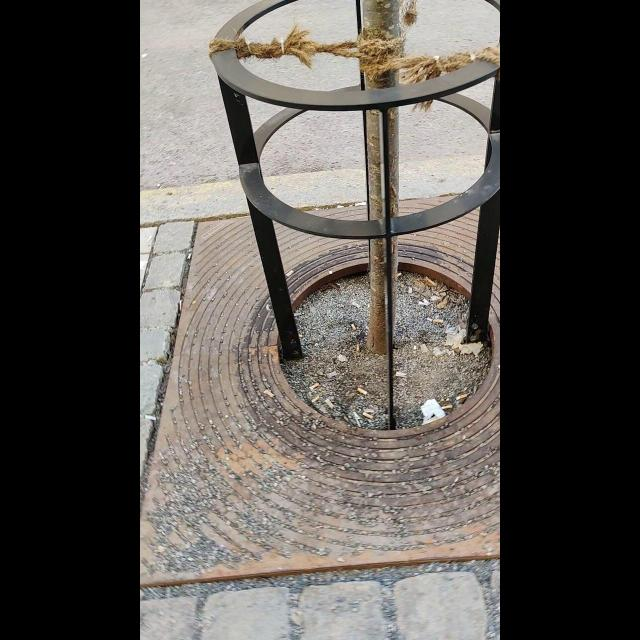cigarette: (284, 268, 296, 276), (362, 411, 372, 419), (144, 414, 157, 420), (456, 394, 467, 401), (358, 387, 367, 395), (264, 390, 274, 397), (351, 301, 361, 308), (396, 371, 406, 377), (432, 317, 442, 323), (178, 299, 182, 312), (442, 405, 452, 410), (327, 399, 332, 408), (187, 251, 191, 262), (428, 278, 434, 285), (310, 384, 318, 389), (351, 323, 356, 331), (312, 395, 318, 401), (396, 273, 403, 278)
